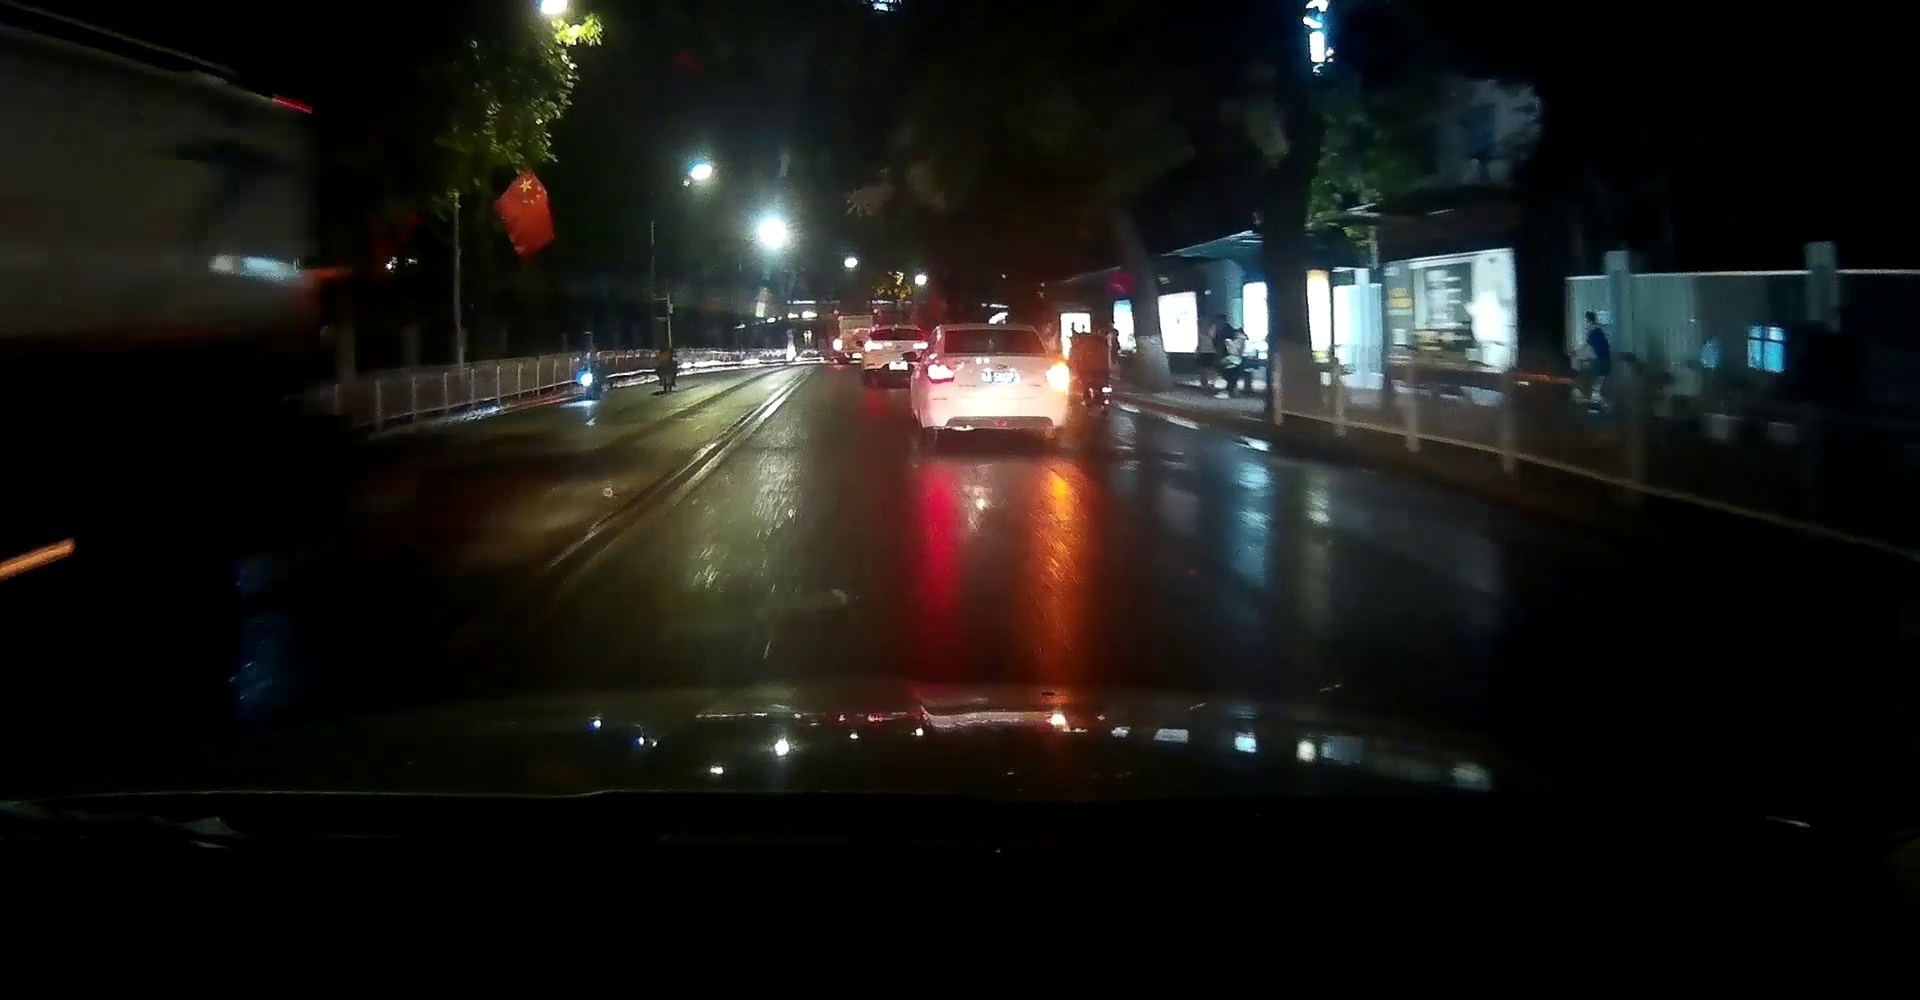L_light: (924, 364, 956, 385)
R_light: (1045, 364, 1069, 385)
T_light: (984, 330, 1002, 334)
night-right: (921, 322, 1070, 445)
